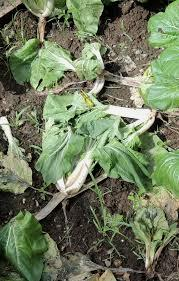Bok-Choy-Diseased: (130, 184, 179, 259), (2, 154, 31, 193)
